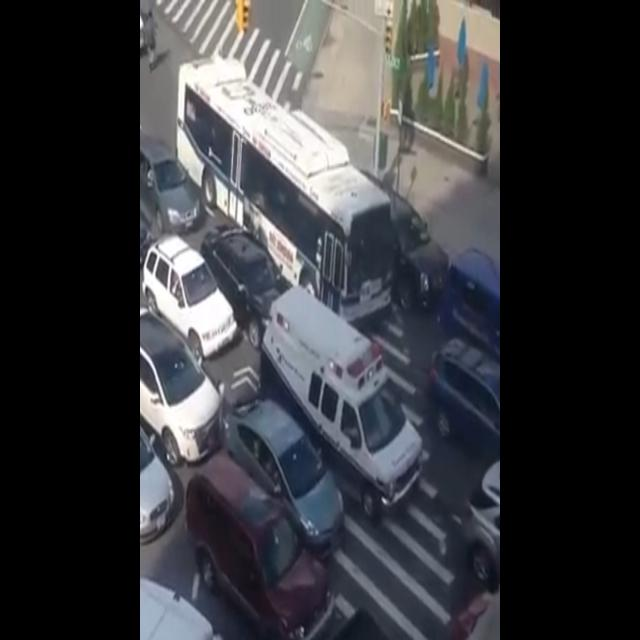Ambulance: (259, 276, 423, 514)
